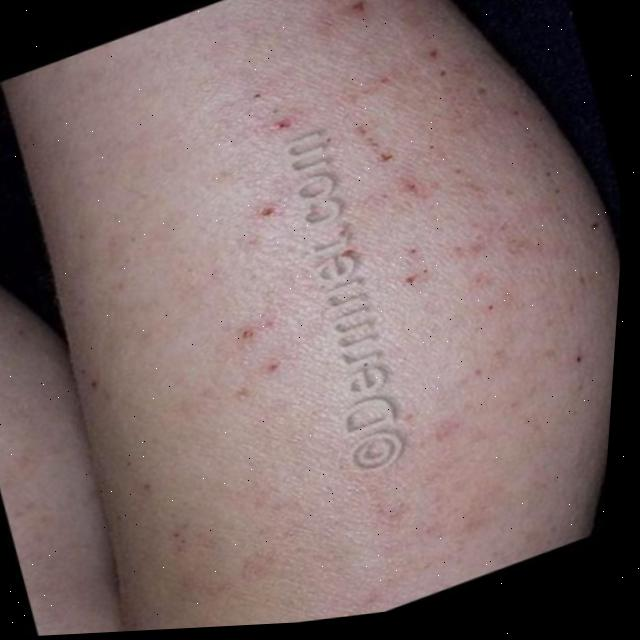Eczema: (134, 0, 610, 587)
